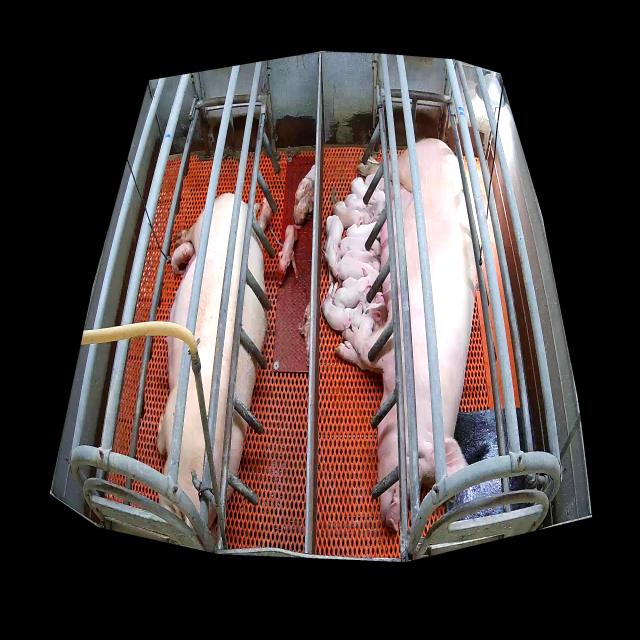pig: (333, 139, 482, 532), (157, 192, 268, 533), (324, 283, 364, 331), (334, 268, 375, 312), (322, 215, 344, 286), (278, 225, 302, 286), (344, 194, 386, 223), (335, 200, 374, 230), (340, 236, 381, 263), (359, 302, 388, 338), (336, 258, 379, 282), (294, 163, 315, 208), (294, 182, 314, 226), (352, 177, 386, 202), (172, 243, 195, 279), (298, 302, 310, 368), (345, 222, 381, 241), (254, 196, 271, 231), (364, 174, 385, 190)
